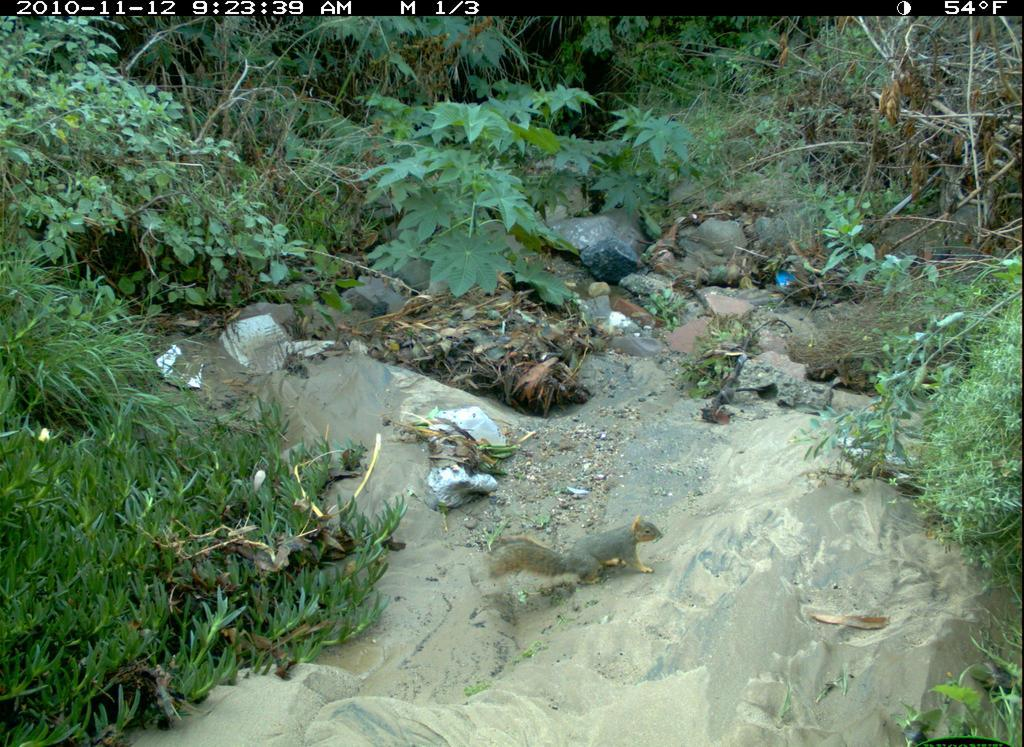squirrel: (470, 509, 670, 598)
